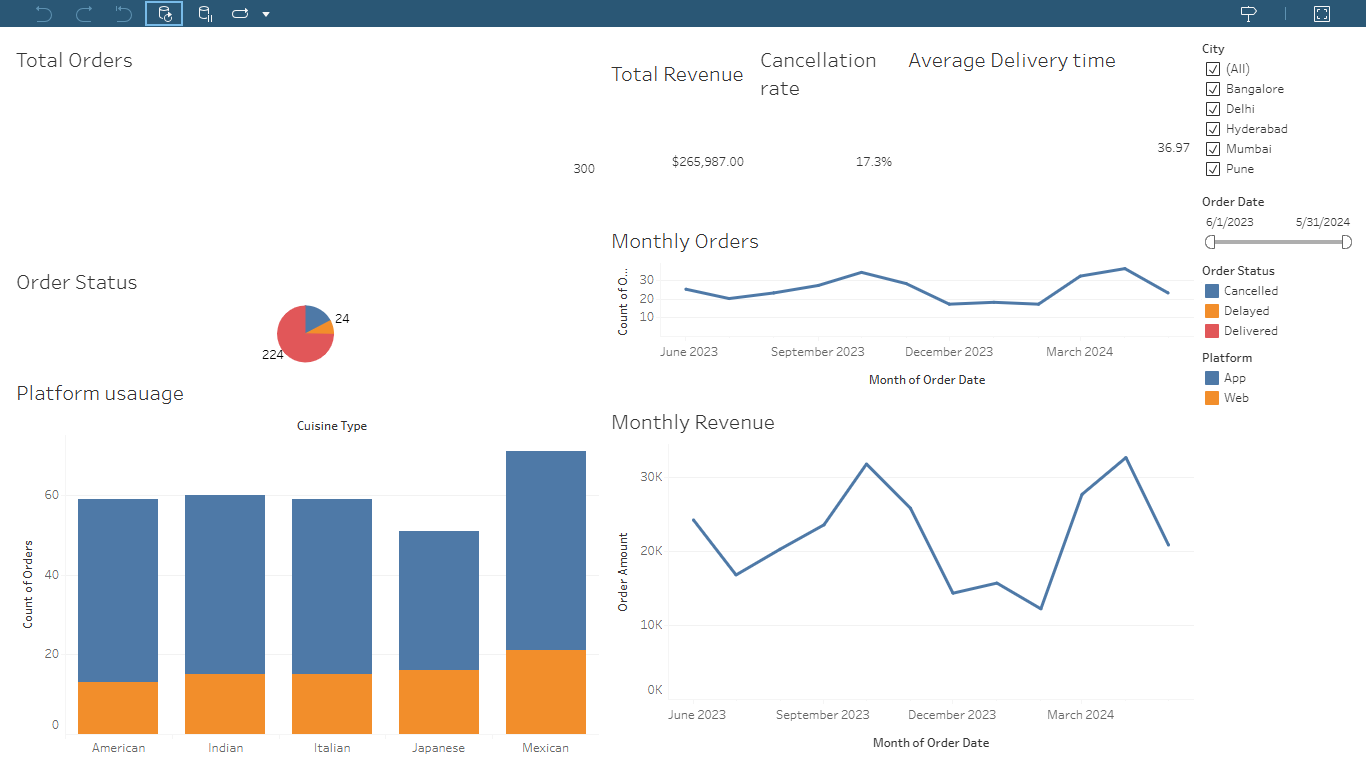

The page's visual inventory and layout, read from the dashboard file:
{"tool":"tableau","page":{"name":"Executive Summary Dashboard","canvas":[1000,1000],"units":"permille","ordinal":1},"visuals":[{"type":"worksheet","title":"Total Orders","mark":"Automatic","box":[12.3,10.5,364.6,299.4]},{"type":"worksheet","title":"Total Revenue","mark":"Automatic","box":[376.9,10.5,91.2,244.5]},{"type":"worksheet","title":"Cancellation rate","mark":"Automatic","box":[468.1,10.5,91.2,244.5]},{"type":"worksheet","title":"Average Delivery time ","mark":"Automatic","box":[559.2,10.5,182.3,244.5]},{"type":"filter","title":"Total Orders","param":"[federated.0hogbfi0d1iovd1blybye1nn2n2q].[none:City:nk]","box":[741.5,10.5,246.2,228.3]},{"type":"filter","title":"Total Orders","param":"[federated.0hogbfi0d1iovd1blybye1nn2n2q].[none:Order Date:qk]","box":[741.5,238.8,246.2,95.8]},{"type":"worksheet","title":"Monthly Orders ","mark":"Line","rows":["Orders_90EB09EB2D6F4BEDAFC57F3723FEA3BF"],"cols":["Order Date"],"box":[376.9,255,364.6,244.8]},{"type":"worksheet","title":"Order Status ","mark":"Pie","box":[12.3,309.9,364.6,149.8]},{"type":"legend","title":"Order Status ","param":"[federated.0hogbfi0d1iovd1blybye1nn2n2q].[none:Order Status:nk]","box":[741.5,334.7,246.2,122]},{"type":"legend","title":"Platform usauage","param":"[federated.0hogbfi0d1iovd1blybye1nn2n2q].[none:Platform:nk]","box":[741.5,456.7,246.2,94.5]},{"type":"worksheet","title":"Platform usauage","mark":"Automatic","rows":["Orders_90EB09EB2D6F4BEDAFC57F3723FEA3BF"],"cols":["Cuisine Type"],"box":[12.3,459.6,364.6,529.9]},{"type":"worksheet","title":"Monthly Revenue","mark":"Line","rows":["Order Amount"],"cols":["Order Date"],"box":[376.9,499.8,364.6,489.8]}]}

Visuals, with their boxes on the dashboard's canvas, which has no fixed pixel size, in thousandths of its width and height (x1, y1, x2, y2). These are canvas units, not pixel positions in the 1366x768 screenshot, which may show the page scaled, cropped or inside an application window:
"Total Orders" worksheet: bbox=[12, 10, 377, 310]
"Total Revenue" worksheet: bbox=[377, 10, 468, 255]
"Cancellation rate" worksheet: bbox=[468, 10, 559, 255]
"Average Delivery time " worksheet: bbox=[559, 10, 742, 255]
"Total Orders" filter: bbox=[742, 10, 988, 239]
"Total Orders" filter: bbox=[742, 239, 988, 335]
"Monthly Orders " worksheet (Line marks): bbox=[377, 255, 742, 500]
"Order Status " worksheet (Pie marks): bbox=[12, 310, 377, 460]
"Order Status " legend: bbox=[742, 335, 988, 457]
"Platform usauage" legend: bbox=[742, 457, 988, 551]
"Platform usauage" worksheet: bbox=[12, 460, 377, 990]
"Monthly Revenue" worksheet (Line marks): bbox=[377, 500, 742, 990]
